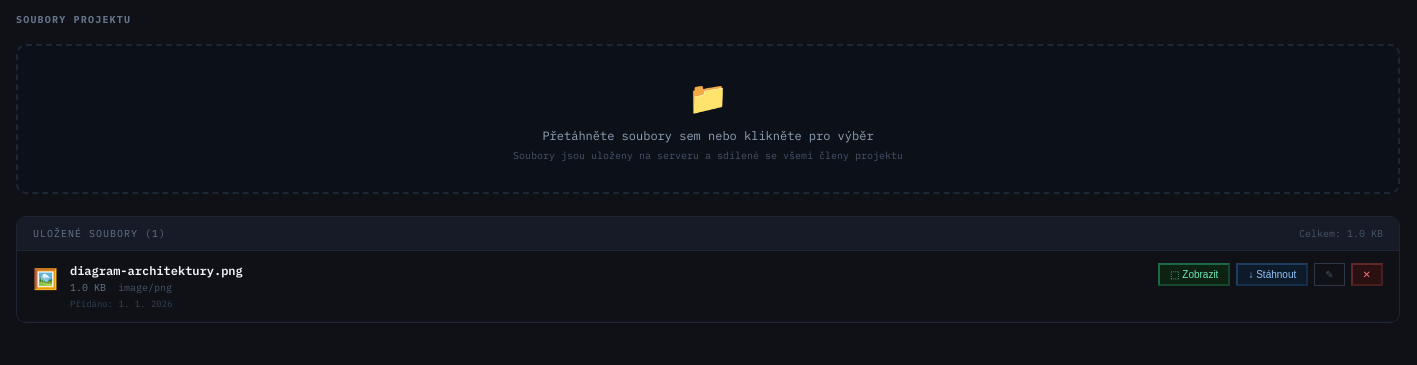
SouboryView — editace poznámky › zadání a uložení poznámky ji zobrazí pod názvem souboru
Click the button titled "Upravit poznámku" at [1329, 274], box [1314,263,1345,286]
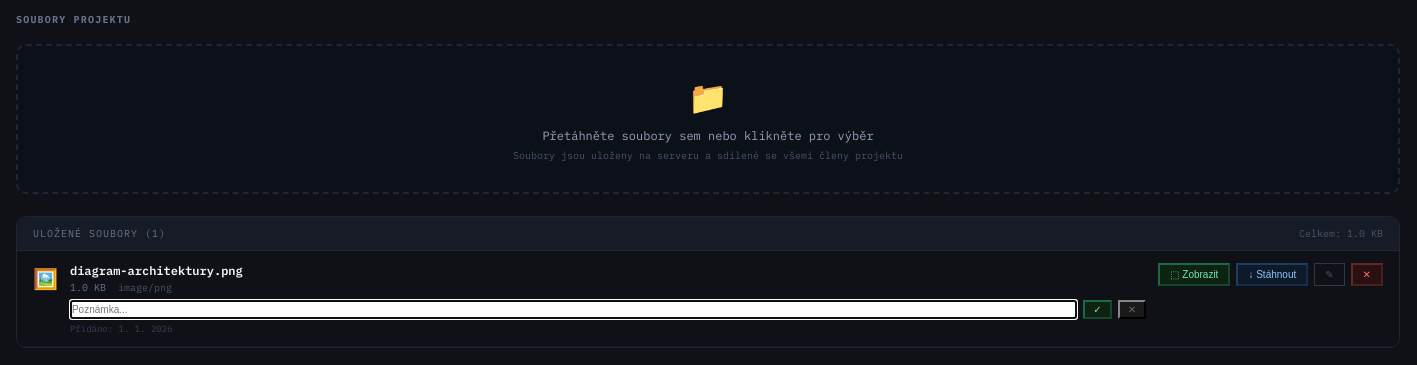
Type "Architekturální diagram z designu session 10.8.2026" into the field with placeholder "Poznámka..." at [574, 310], box [70,300,1077,319]
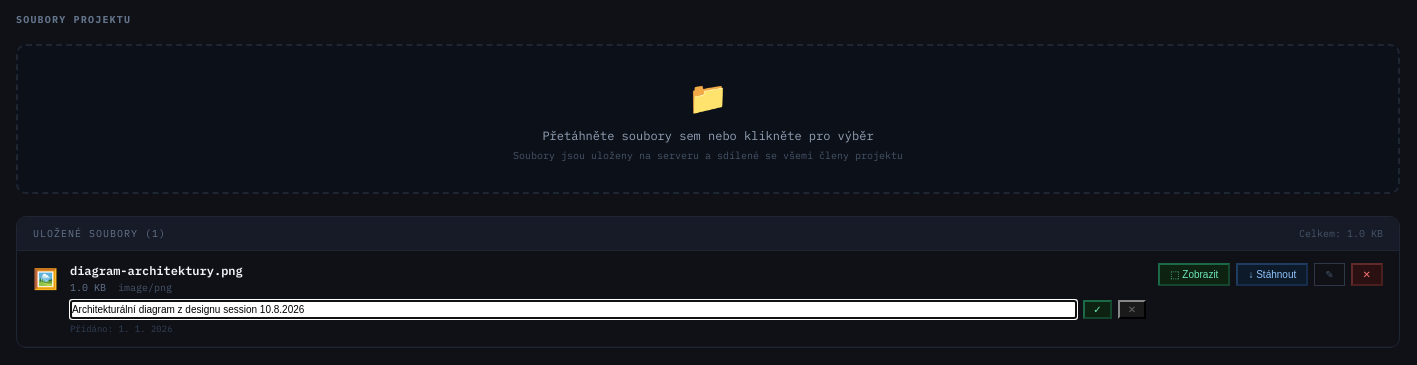
Click the button "✓" at [1098, 310], box [1083,300,1112,319]
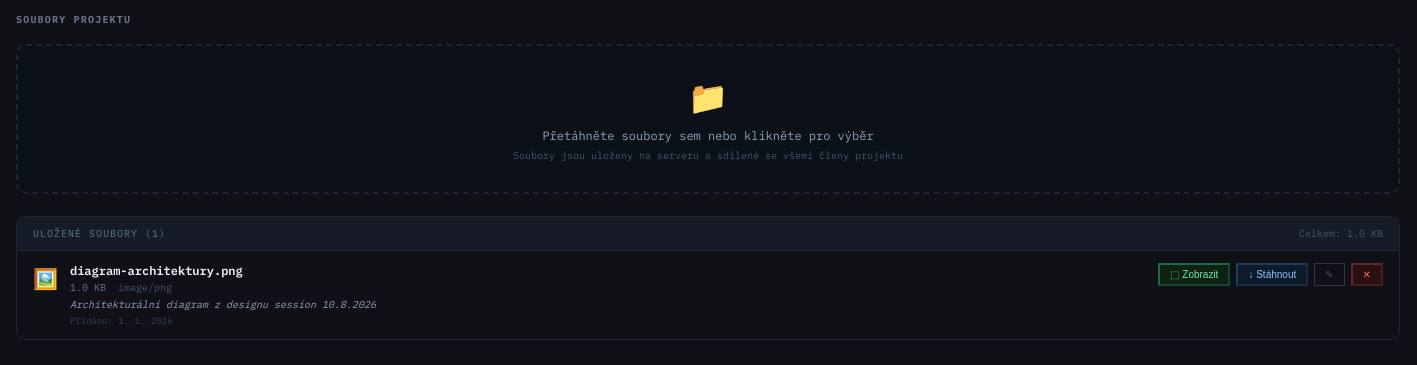
Expected: the text "Architekturální diagram z designu session 10.8.2026" is shown, [70,298,376,311]
